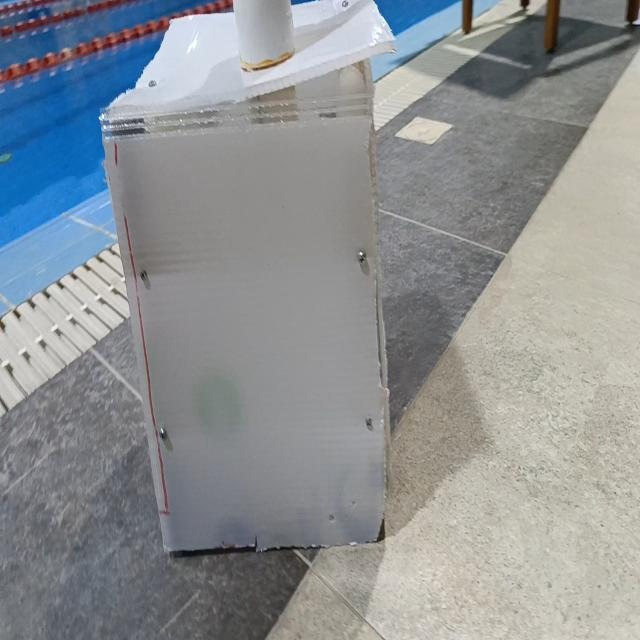Cube: (98, 3, 392, 555)
